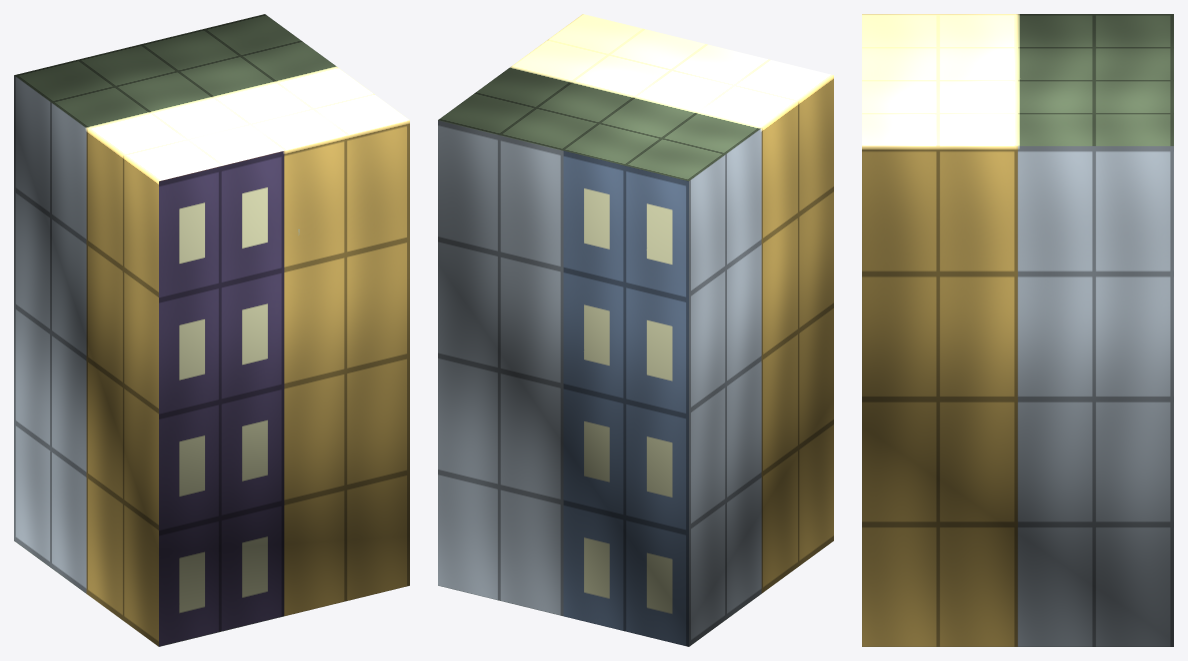
The model's file is barrel.glb.
3 views of the same model, side by side, from view 1: azimuth 30°, elevation 25°; view 2: azimuth 150°, elevation 25°; view 3: azimuth 270°, elevation 25° (orthographic). The views are drawn at different scales.
Parts seen in each view (by area): view 1: col; view 2: col; view 3: col.
Boxes of the visible parts, <box> form: col: <box>14,14,409,646</box>; col: <box>438,14,833,646</box>; col: <box>862,14,1173,646</box>.
Size of the model in its own units: 0.5633 by 0.9984 by 0.5633.
1 material, 1 textured.
